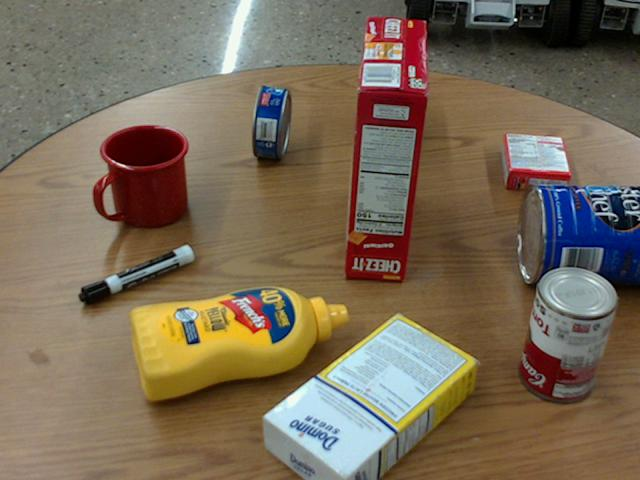cracker_box: (347, 16, 431, 278)
gelatin_box: (500, 132, 570, 191)
large_marker: (78, 244, 192, 304)
master_chef_can: (518, 182, 639, 282)
mug: (96, 125, 188, 228)
mustard_bottle: (128, 284, 347, 401)
potted_meat_can: (365, 55, 417, 151)
sugar_box: (260, 313, 477, 479)
tomato_soup_can: (520, 263, 617, 399)
tuna_fish_can: (250, 84, 291, 158)
